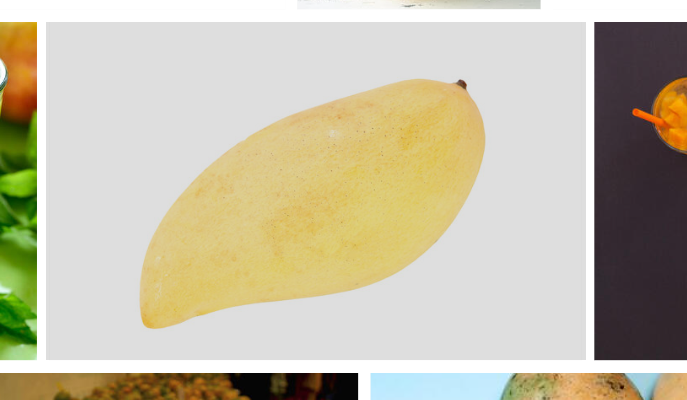mango: (140, 79, 488, 327)
